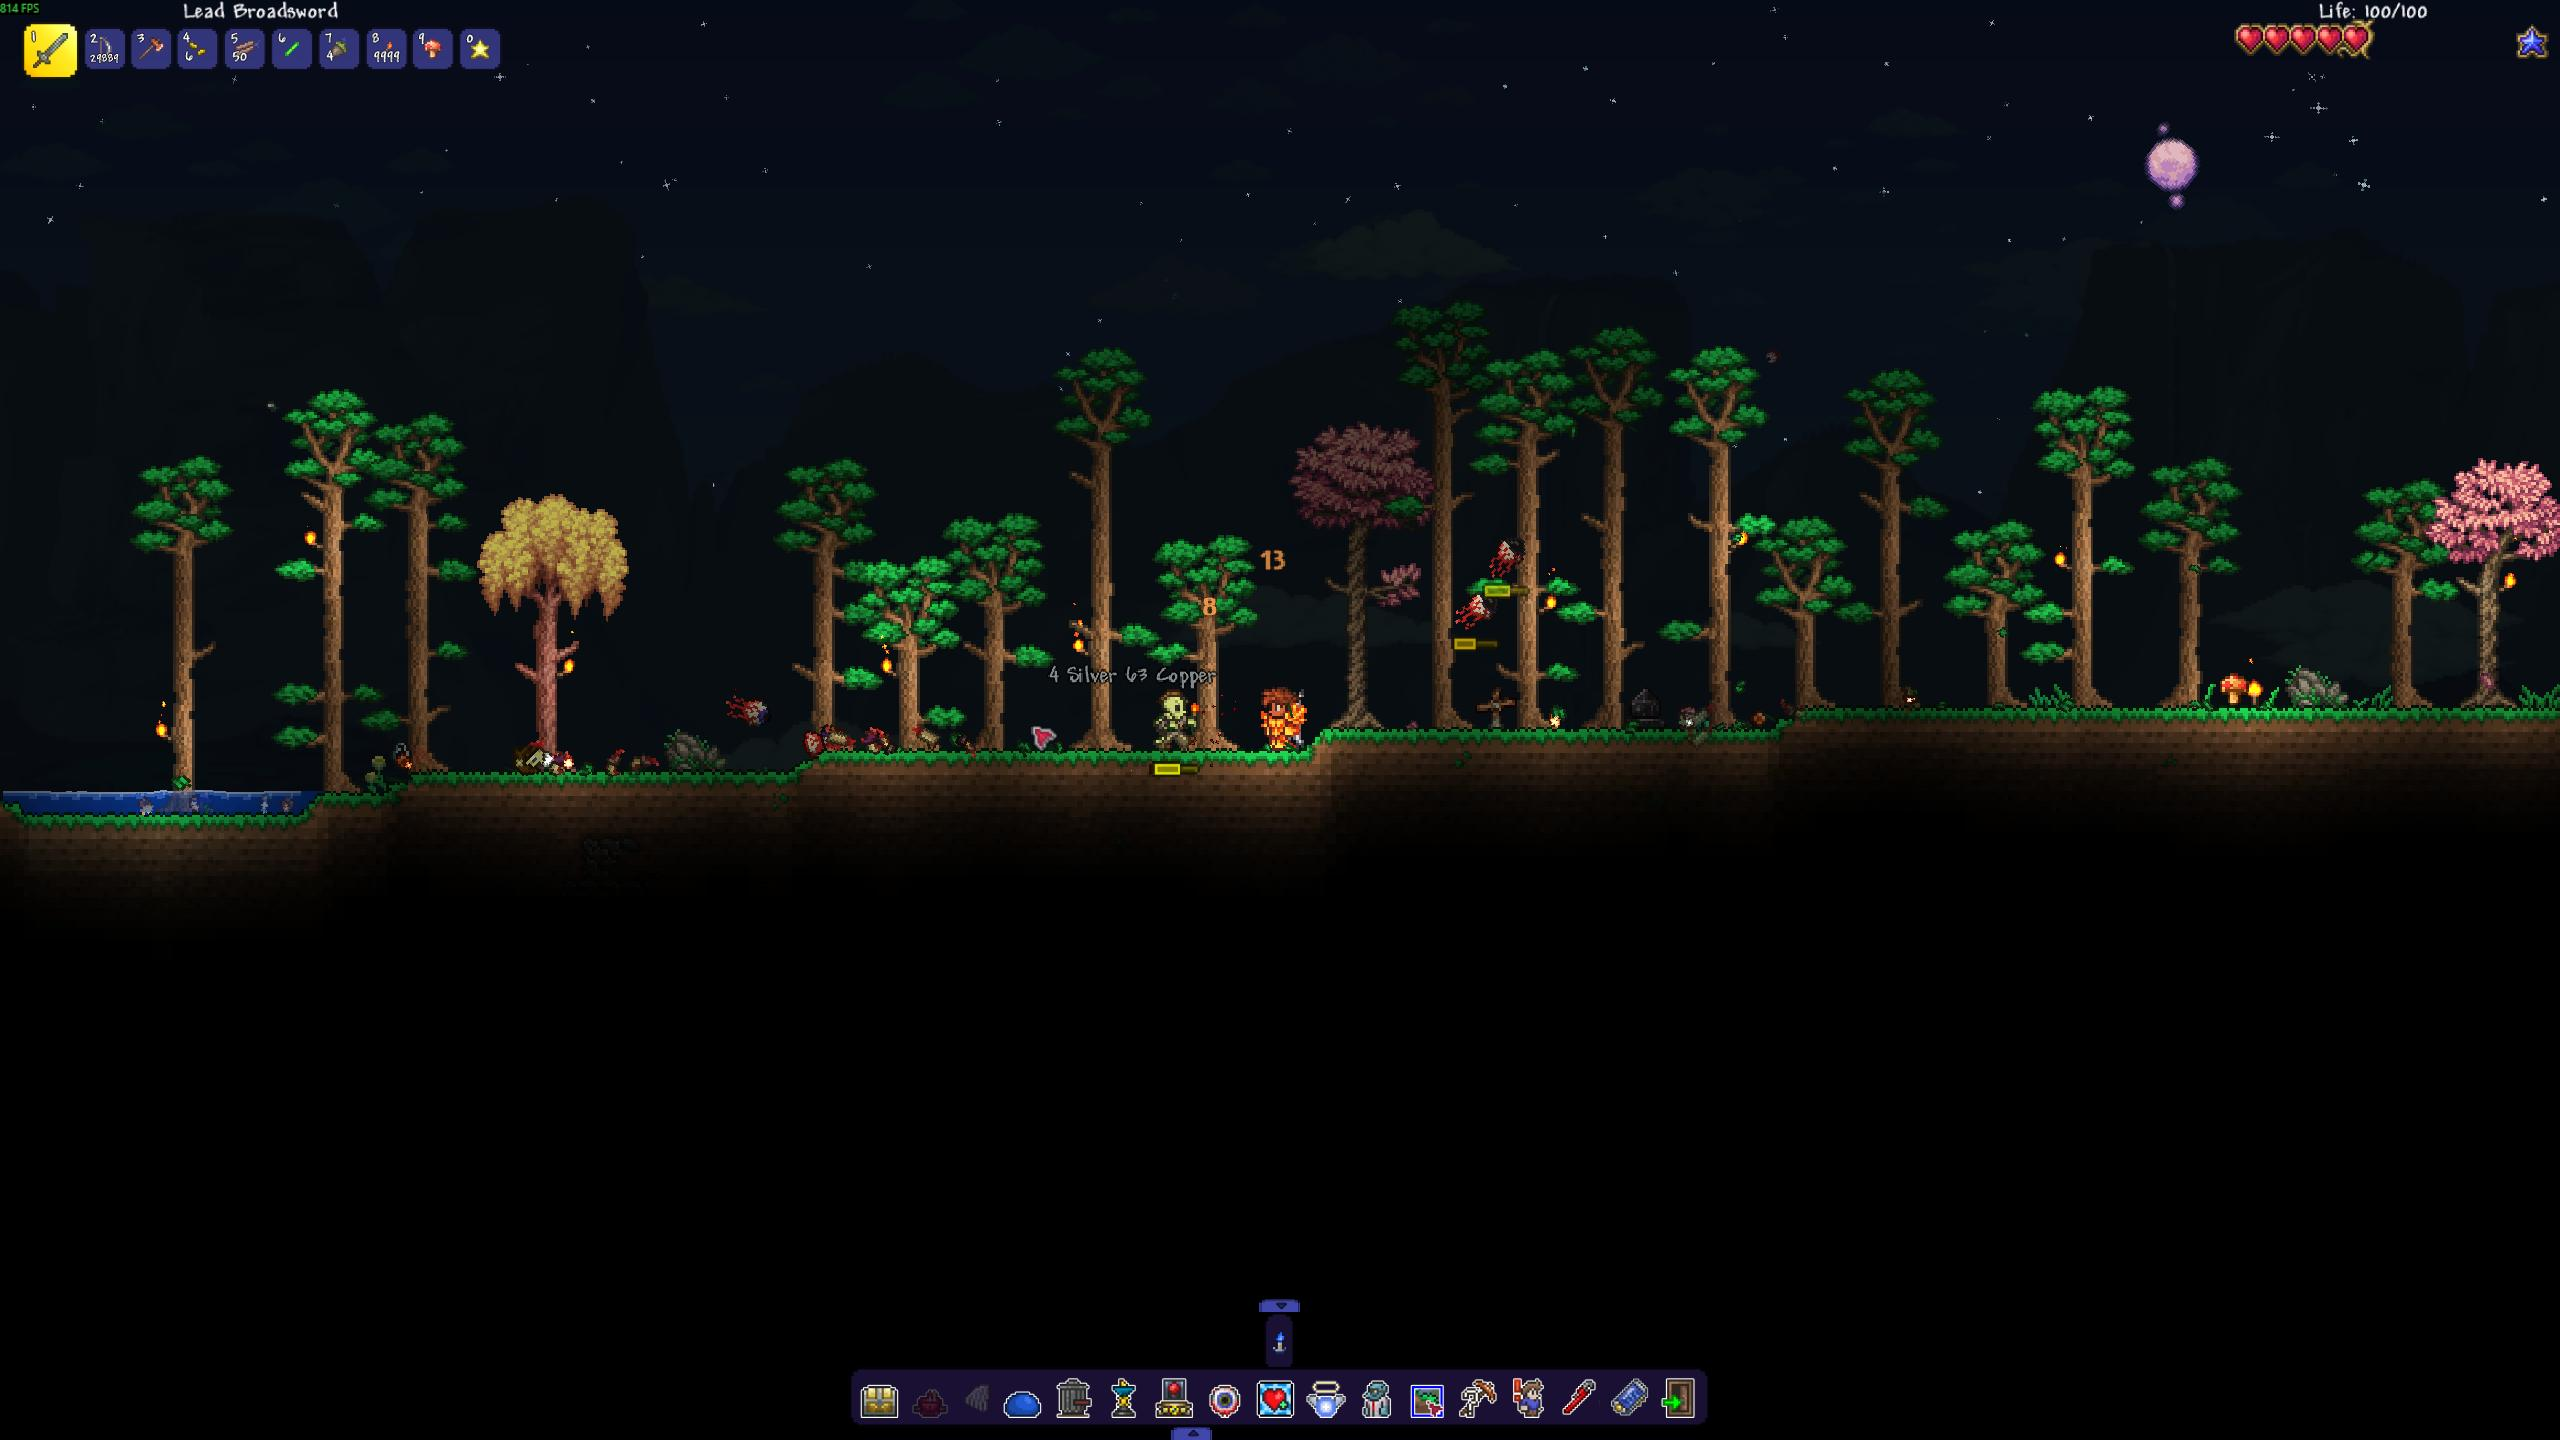Demon Eye: (716, 686, 781, 730), (1445, 591, 1500, 636), (1482, 533, 1528, 584)
Zombie: (1145, 684, 1206, 751)
